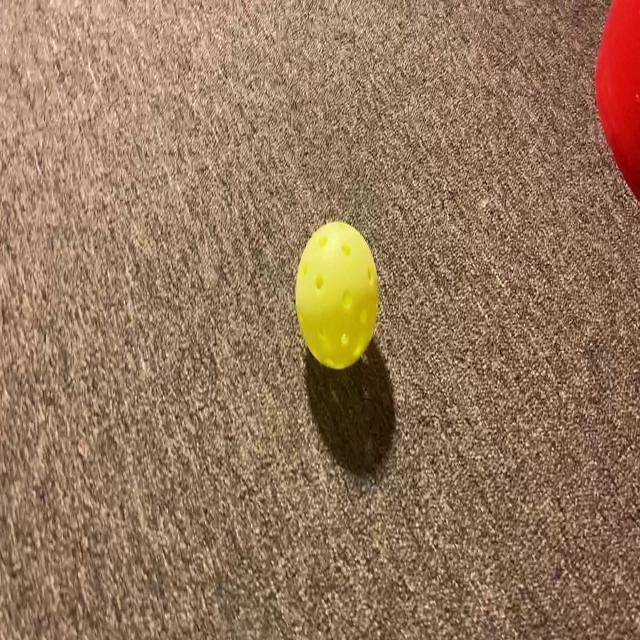ball: (276, 218, 396, 371)
